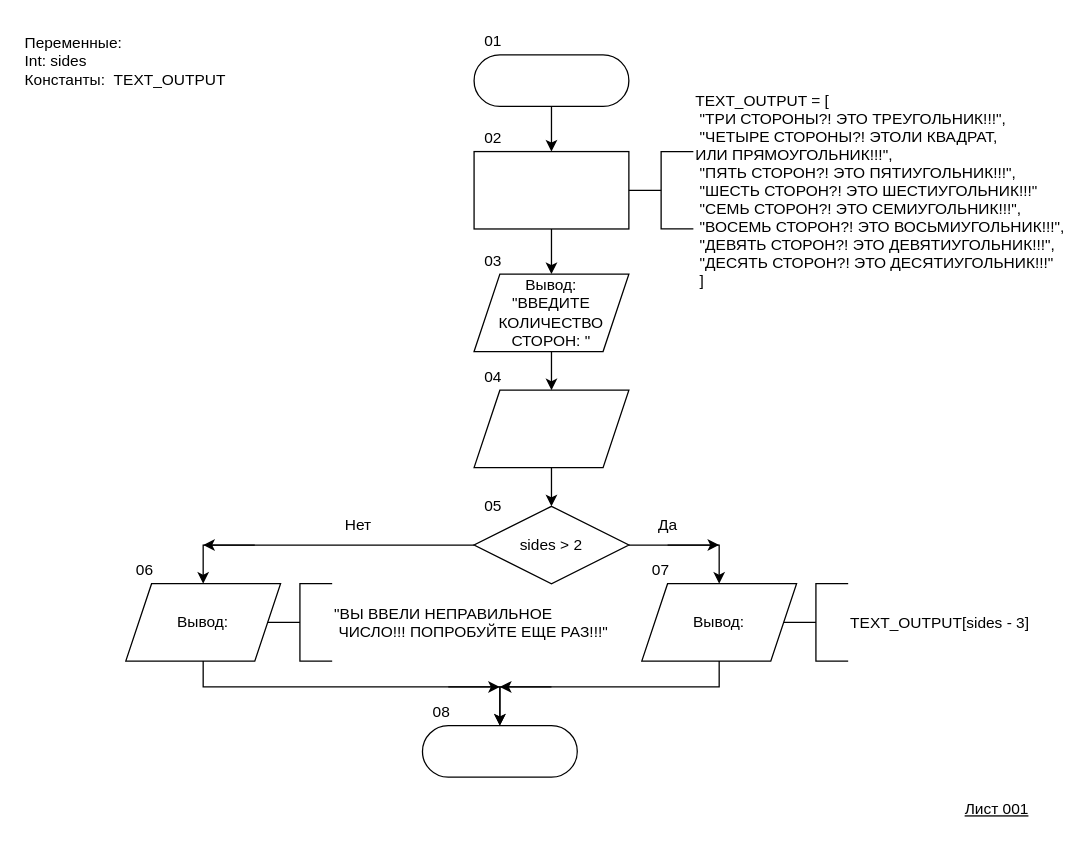
This 1091x850 diagram has some shape labels left out. The centre of each missing label's shape, as x and y in pixels:
Ввод: sides: the point at 551,428
Конец: the point at 499,750
Начало: the point at 551,80
